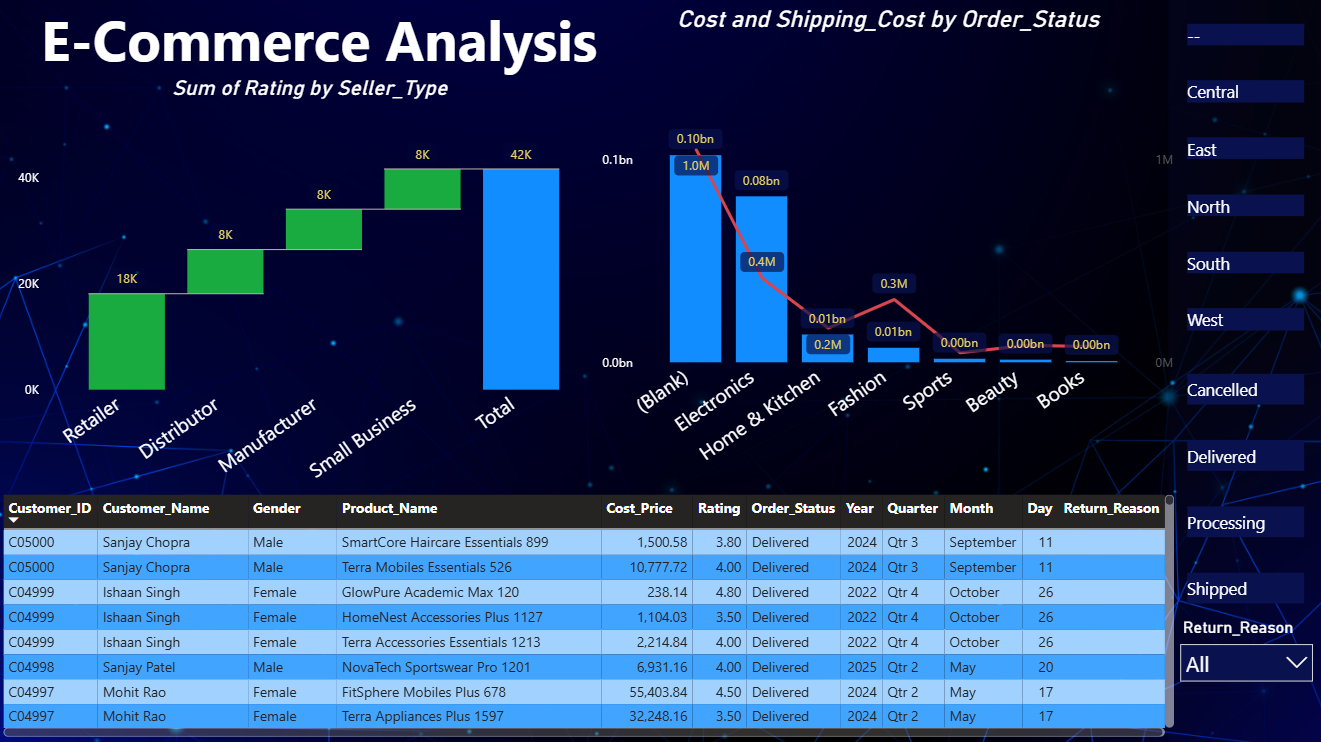

Layout of this report page (visuals, bound fields, positions):
{"tool":"powerbi","page":{"name":"Page 3","canvas":[1280,720],"ordinal":2},"visuals":[{"type":"textbox","box":[0,0,621.8,92.3],"z":0},{"type":"shape","box":[1130.4,0,149.6,720.2],"z":1000},{"type":"advancedSlicerVisual","fields":{"Values":["customers.Region"]},"box":[1130.4,8.4,149.6,337.8],"z":2000},{"type":"advancedSlicerVisual","fields":{"Values":["orders.Order_Status"]},"box":[1130.4,346.2,149.6,260.6],"z":3000},{"type":"slicer","fields":{"Values":["returns.Return_Reason"]},"box":[1131.1,595.9,148.6,96.7],"z":4000},{"type":"waterfallChart","fields":{"Category":["sellers.Seller_Type"],"Y":["Sum(reviews.Rating)"]},"box":[15.9,76.5,572.8,417],"z":5000},{"type":"lineStackedColumnComboChart","title":"Cost and  Shipping_Cost by Order_Status","fields":{"Category":["products.Category"],"Y":["Sum(orders.Cost)"],"Y2":["Sum(orders.Shipping_Cost)"]},"box":[579.1,8.4,562.2,468.1],"z":6000},{"type":"tableEx","fields":{"Values":["customers.Customer_ID","customers.Customer_Name","customers.Gender","products.Product_Name","products.Cost_Price","products.Rating","orders.Order_Status","customers.Registration_Date.Variation.Date Hierarchy.Year","customers.Registration_Date.Variation.Date Hierarchy.Quarter","customers.Registration_Date.Variation.Date Hierarchy.Month","customers.Registration_Date.Variation.Date Hierarchy.Day","returns.Return_Reason"]},"box":[0,476.5,1141.3,243.7],"z":7000}]}

Visuals, with their boxes in screenshot pixels (x1, y1, x2, y2), scaled from the page's 1280x720 canvas onto the 1321x742 screenshot:
textbox: [0, 0, 642, 95]
shape: [1167, 0, 1320, 741]
advancedSlicerVisual - customers.Region: [1167, 9, 1320, 357]
advancedSlicerVisual - orders.Order_Status: [1167, 357, 1320, 625]
slicer - returns.Return_Reason: [1167, 614, 1320, 714]
waterfallChart - sellers.Seller_Type x Sum(reviews.Rating): [16, 79, 608, 509]
"Cost and  Shipping_Cost by Order_Status" lineStackedColumnComboChart: [598, 9, 1178, 491]
tableEx - customers.Customer_ID x customers.Customer_Name: [0, 491, 1178, 741]
